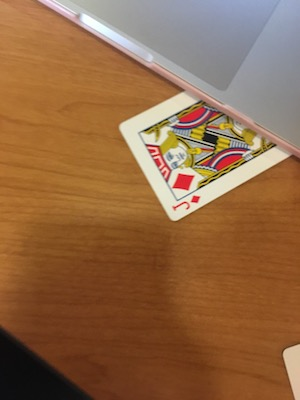JackOfDiamonds: (116, 85, 296, 223)
